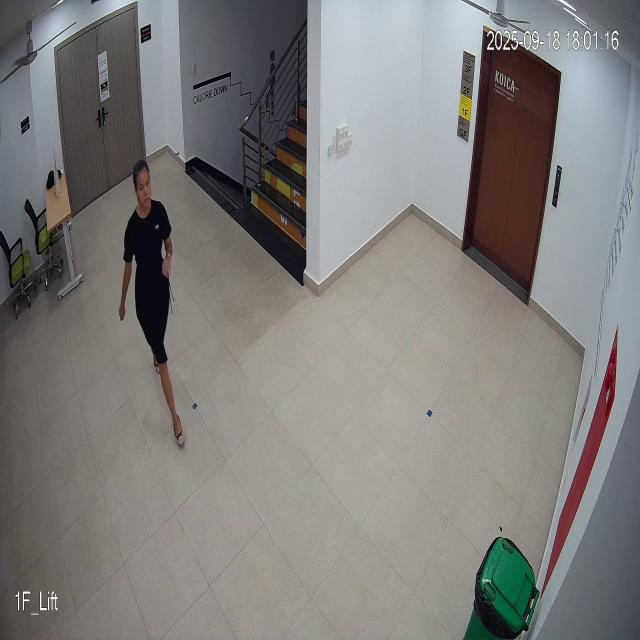face: (130, 158, 154, 217)
